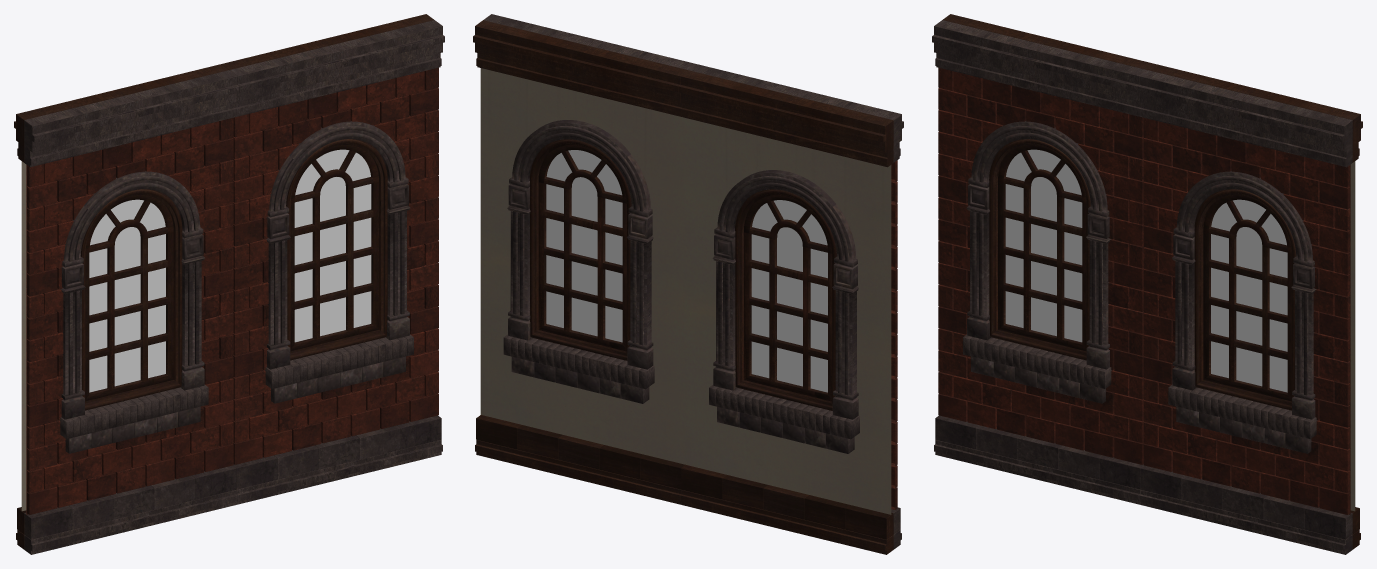
The model's file is SK3 WINDOW 2 SHORT.fbx.
The picture shows the model from 3 angles, left to right: view 1: azimuth 30°, elevation 25°; view 2: azimuth 150°, elevation 25°; view 3: azimuth 330°, elevation 25°; orthographic projection.
Visible parts, largest first — view 1: SK3 WINDOW 2 SHORT; view 2: SK3 WINDOW 2 SHORT; view 3: SK3 WINDOW 2 SHORT.
Part boxes in pixels (box(x1,y1,x2,y2)): SK3 WINDOW 2 SHORT: box(14, 14, 444, 554); SK3 WINDOW 2 SHORT: box(473, 14, 903, 554); SK3 WINDOW 2 SHORT: box(932, 14, 1362, 554).
Size of the model in its own units: 400 by 400 by 37.1.
